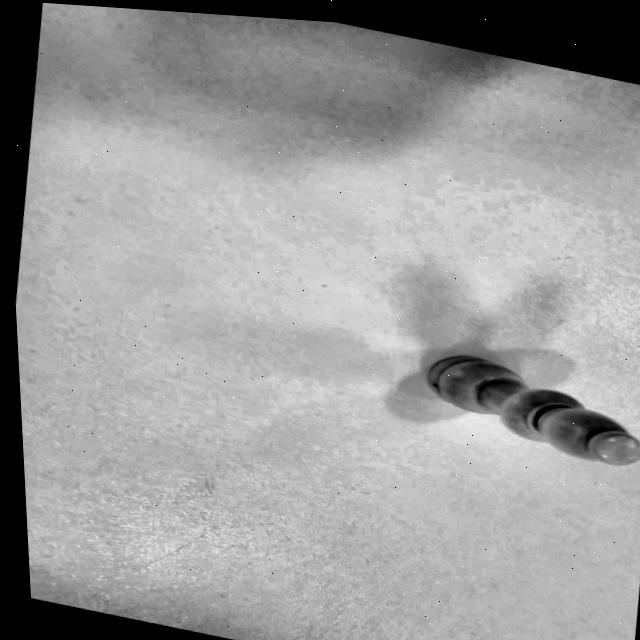white-bishop: (392, 352, 640, 464)
